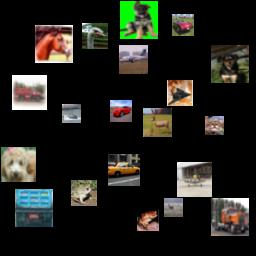airplane: (177, 162, 212, 197), (119, 45, 148, 74), (167, 80, 193, 106)
automobile: (108, 154, 140, 186), (110, 100, 132, 122), (172, 14, 194, 36)
bird: (82, 23, 108, 49)
cat: (205, 116, 224, 135)
deer: (143, 108, 172, 137), (164, 198, 183, 217)
dog: (211, 45, 249, 83), (120, 1, 158, 39), (1, 147, 36, 182)
frog: (71, 180, 97, 206), (137, 209, 159, 231)
ship: (62, 104, 81, 123)
truck: (15, 189, 53, 227), (211, 198, 249, 236), (12, 75, 47, 110)
